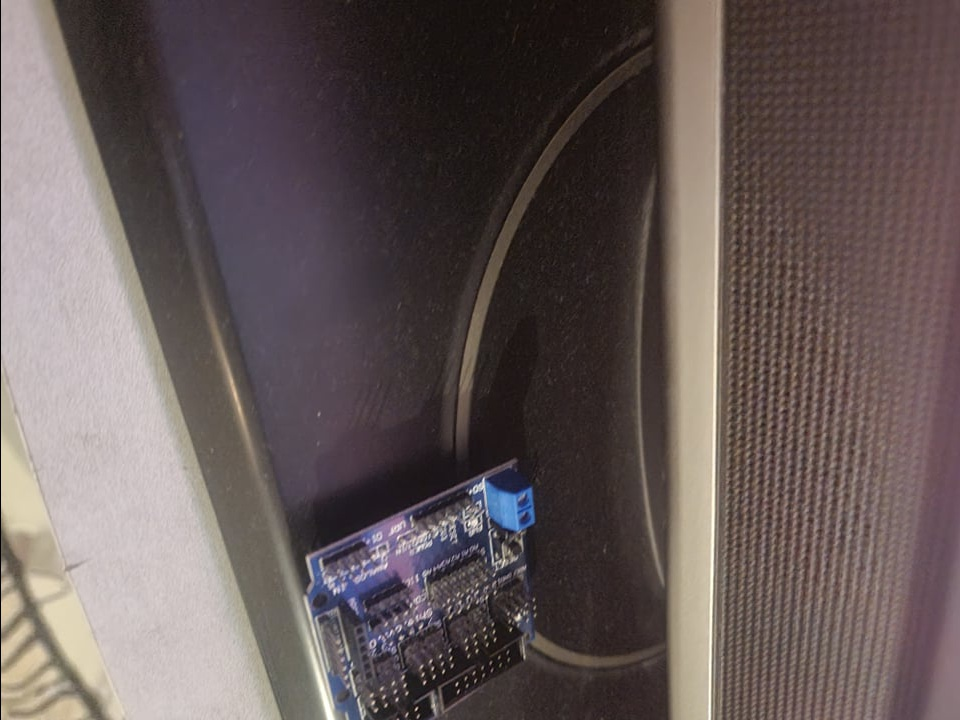5V EXPANSION: (300, 458, 534, 720)
